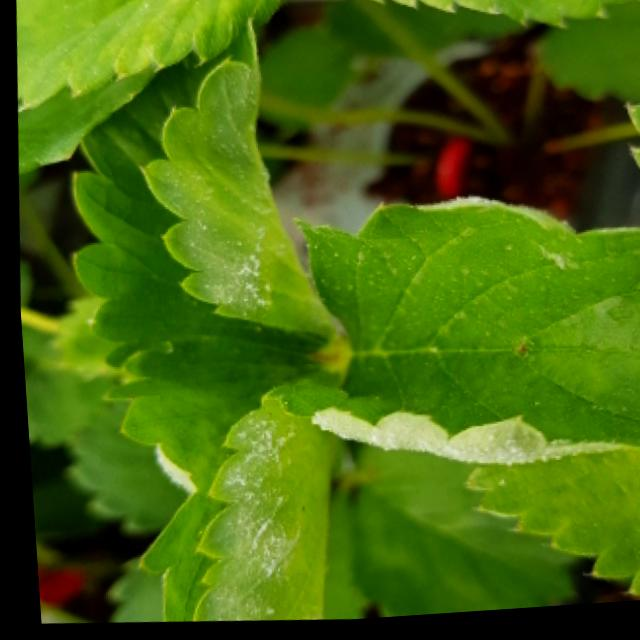Powdery Mildew Leaf: (260, 199, 640, 474), (68, 14, 337, 375), (96, 336, 332, 624)
